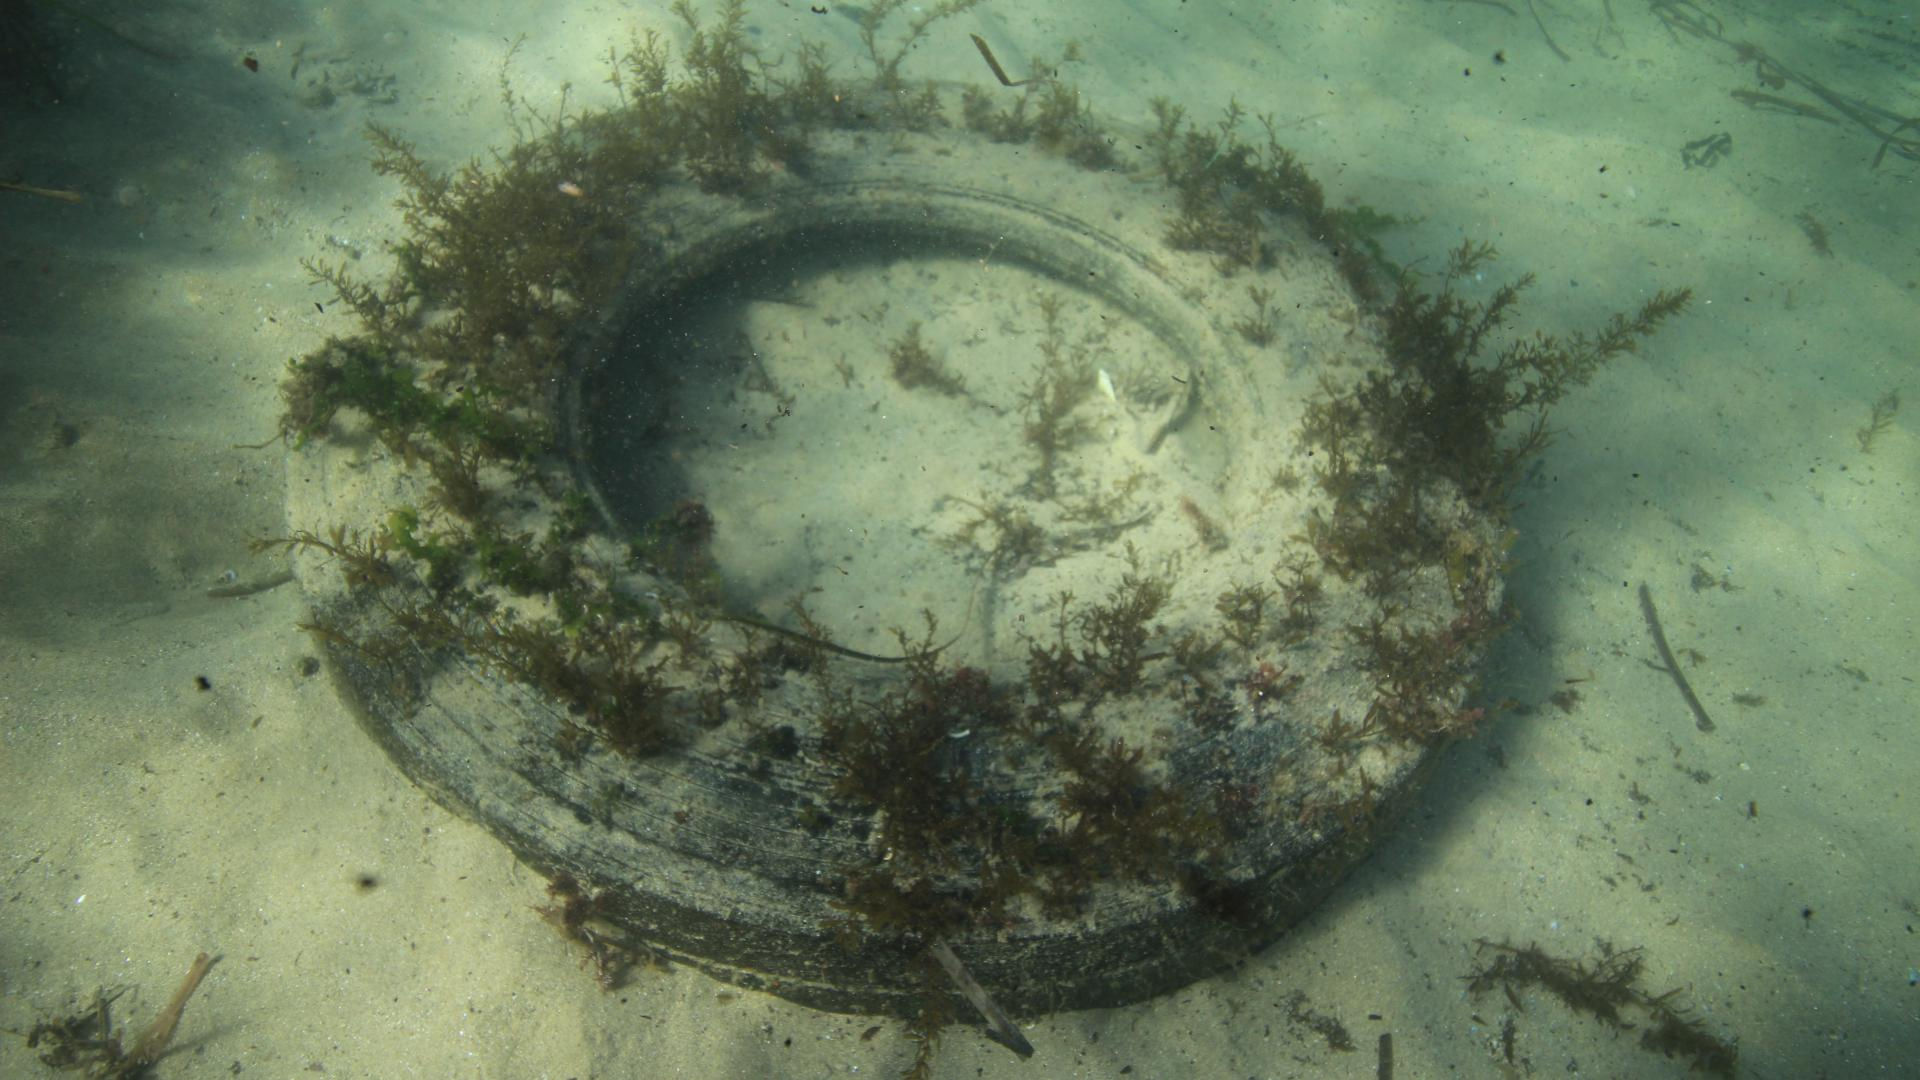tire: (281, 78, 1510, 1025)
